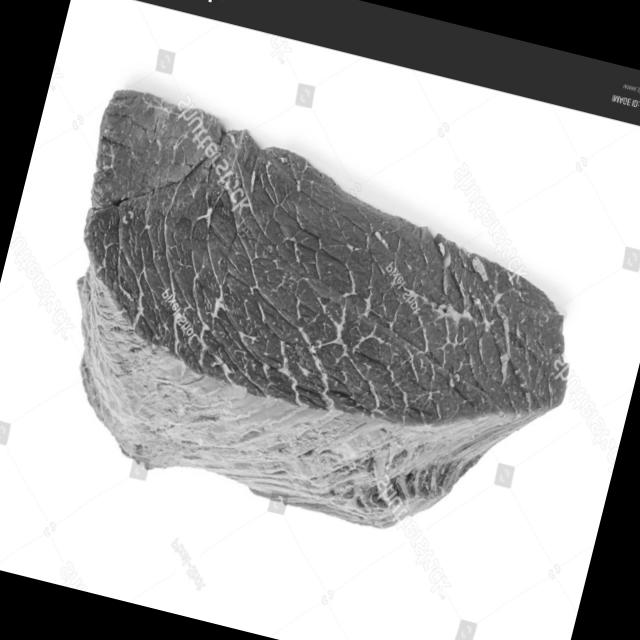filet: (21, 92, 602, 567)
